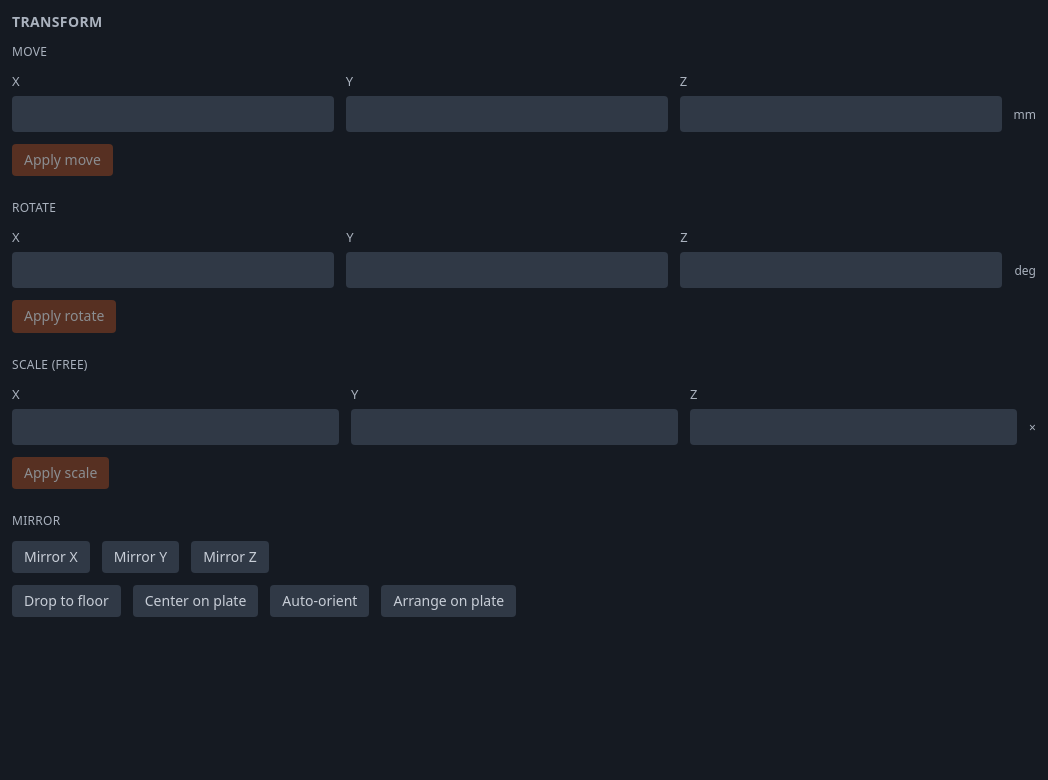
Test: TransformSection › disables Apply move until an axis has a value
expect the button "Apply move" is disabled: met, box [12, 144, 113, 176]
Type "5" into the field named "Move x".
click(173, 114); type("5")  # box [12, 96, 334, 132]
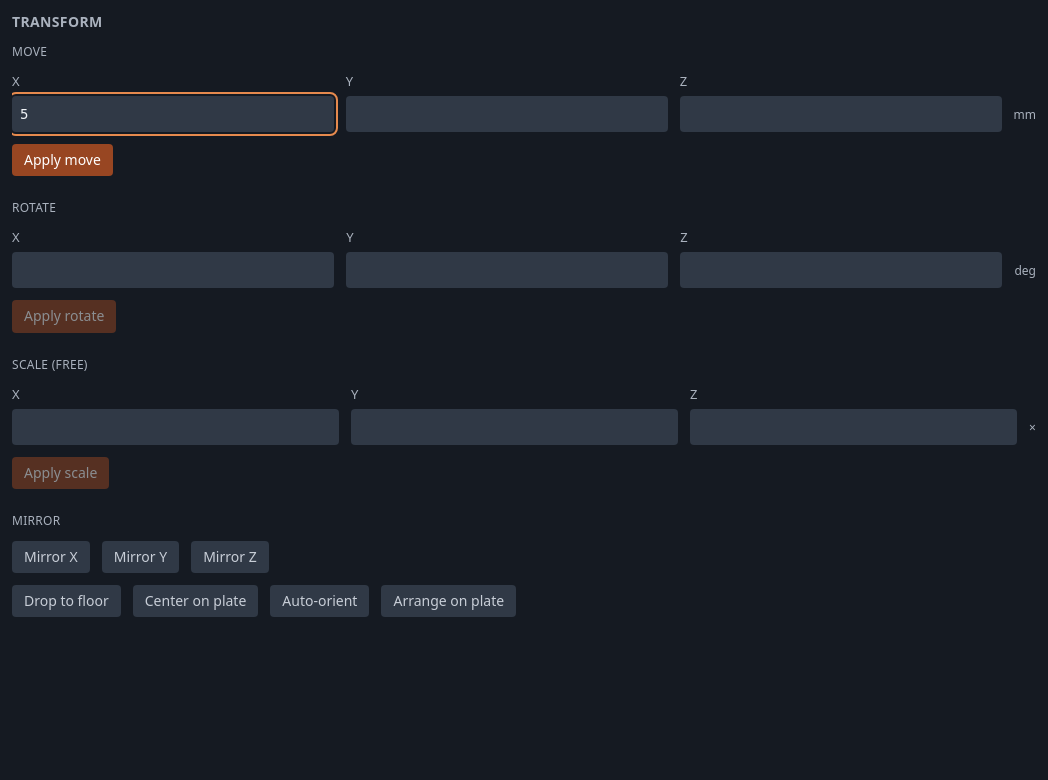
expect the button "Apply move" is enabled: met, box [12, 144, 113, 176]
